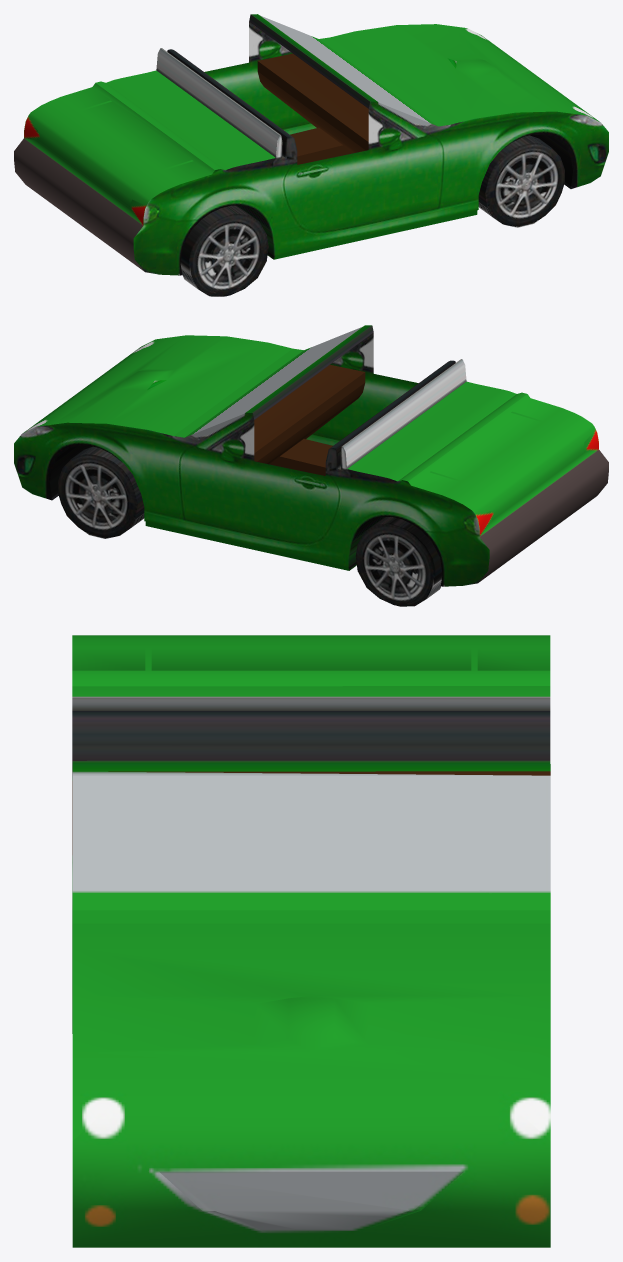
Rendered from autoVerde.DAE.
3 views of the same model, one above another, from view 1: azimuth 30°, elevation 25°; view 2: azimuth 150°, elevation 25°; view 3: azimuth 270°, elevation 25° (orthographic). The views are drawn at different scales.
Visible parts, largest first — view 1: autoVerde; view 2: autoVerde; view 3: autoVerde.
Part boxes in pixels (x1,y1,x2,y2): autoVerde: (14, 14, 608, 296); autoVerde: (14, 325, 608, 606); autoVerde: (72, 635, 550, 1247).
Bounding box in the file's own units: 3.87 × 1.69 × 1.26.
